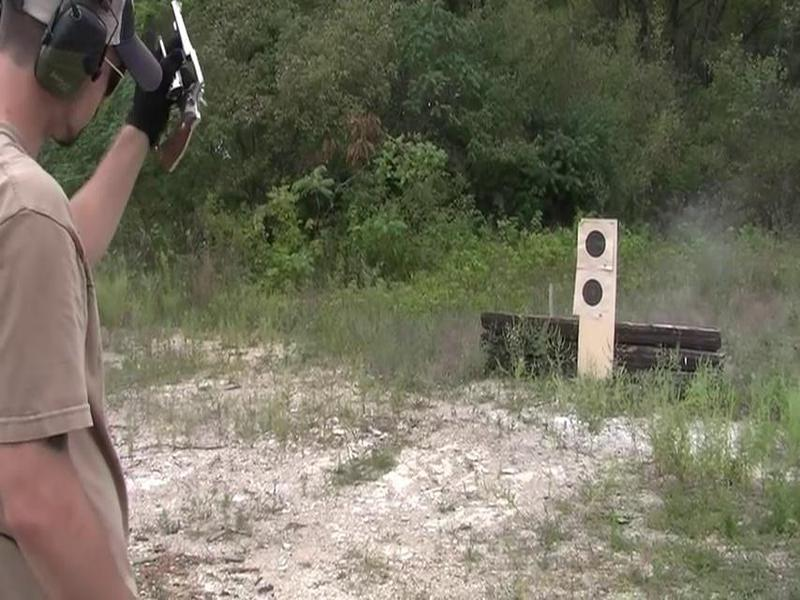Revolver: (128, 1, 222, 190)
